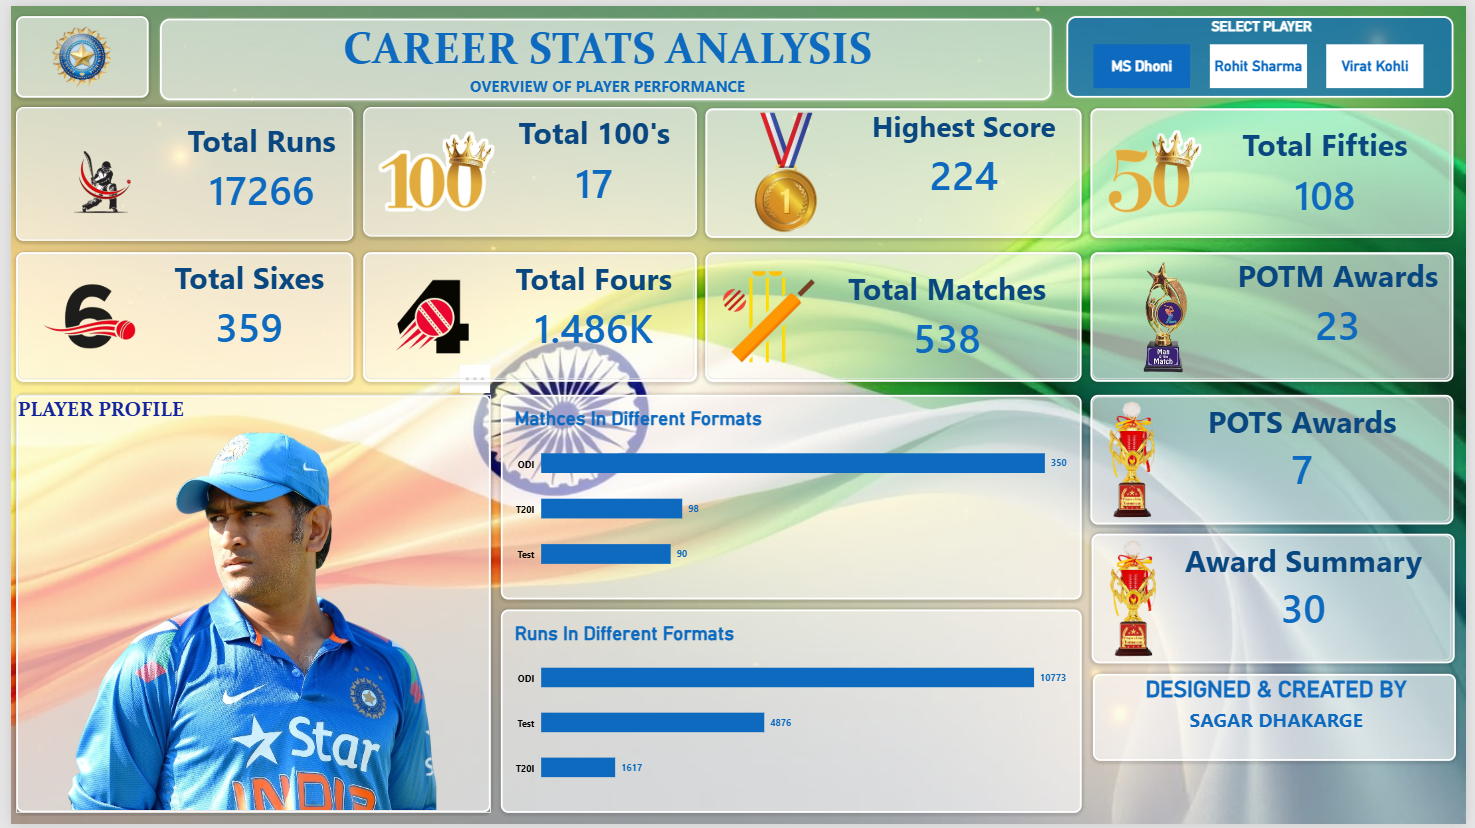

What the dashboard file says about the page in this screenshot:
{"tool":"powerbi","page":{"name":"Career Analysis","canvas":[1920,1080],"ordinal":0},"visuals":[{"type":"textbox","title":"CAREER STATS ANALYSIS","box":[196.2,15.9,1177,107.8],"z":0},{"type":"image","title":"PLAYER PROFILE","box":[6.7,513.3,626.7,551.7],"z":1000},{"type":"cardVisual","fields":{"Data":["Career_Summary.Total Fours"]},"box":[464.8,325.2,440.1,171.4],"z":2000},{"type":"cardVisual","fields":{"Data":["Career_Summary.Total Sixes"]},"box":[7.1,325.2,445.4,171.4],"z":3000},{"type":"cardVisual","fields":{"Data":["Career_Summary.Total 100's"]},"box":[464.8,132.5,440.1,171.4],"z":4000},{"type":"cardVisual","fields":{"Data":["Career_Summary.Total Fifties"]},"box":[1424.4,134.3,478.9,171.4],"z":5000},{"type":"cardVisual","fields":{"Data":["Career_Summary.Highest Score"]},"box":[917.2,134.3,496.6,171.4],"z":6000},{"type":"cardVisual","fields":{"Data":["Career_Summary.Total Runs"]},"box":[7.1,132.5,445.4,176.7],"z":7000},{"type":"advancedSlicerVisual","title":"SELECT PLAYER","fields":{"Values":["Career_Summary.Player_Name"]},"box":[1392.6,14.1,510.7,107.8],"z":8000},{"type":"barChart","title":"Runs In Different Formats","fields":{"Category":["Career_Summary.Format"],"Y":["Sum(Career_Summary.Runs)"]},"box":[646.7,796.7,766.7,268.3],"z":9000},{"type":"barChart","title":"Mathces In Different Formats","fields":{"Category":["Career_Summary.Format"],"Y":["Sum(Career_Summary.Matches)"]},"box":[646.8,512.5,767,270.4],"z":10000},{"type":"cardVisual","fields":{"Data":["Career_Summary.Total Matches"]},"box":[917.2,325.2,496.6,171.4],"z":11000},{"type":"cardVisual","fields":{"Data":["Career_Summary.Total POTM Awards"]},"box":[1424.4,512.5,478.9,171.4],"z":12000},{"type":"cardVisual","fields":{"Data":["Career_Summary.Total MOM Awards"]},"box":[1424.4,325.2,478.9,171.4],"z":13000},{"type":"image","box":[7.1,14.1,175,107.8],"z":14000},{"type":"cardVisual","fields":{"Data":["Career_Summary.Award Summary"]},"box":[1426.2,696.3,478.9,171.4],"z":15000},{"type":"textbox","title":"DESIGNED & CREATED BY ","box":[1428,881.9,478.9,114.9],"z":16000}]}

Visuals, with their boxes in screenshot pixels (x1, y1, x2, y2), scaled from the page's 1920x1080 canvas onto the 1475x828 screenshot:
"CAREER STATS ANALYSIS" textbox: <box>151,12,1055,95</box>
"PLAYER PROFILE" image: <box>5,394,487,816</box>
cardVisual - Career_Summary.Total Fours: <box>357,249,695,381</box>
cardVisual - Career_Summary.Total Sixes: <box>5,249,348,381</box>
cardVisual - Career_Summary.Total 100's: <box>357,102,695,233</box>
cardVisual - Career_Summary.Total Fifties: <box>1094,103,1462,234</box>
cardVisual - Career_Summary.Highest Score: <box>705,103,1086,234</box>
cardVisual - Career_Summary.Total Runs: <box>5,102,348,237</box>
"SELECT PLAYER" advancedSlicerVisual: <box>1070,11,1462,93</box>
"Runs In Different Formats" barChart: <box>497,611,1086,816</box>
"Mathces In Different Formats" barChart: <box>497,393,1086,600</box>
cardVisual - Career_Summary.Total Matches: <box>705,249,1086,381</box>
cardVisual - Career_Summary.Total POTM Awards: <box>1094,393,1462,524</box>
cardVisual - Career_Summary.Total MOM Awards: <box>1094,249,1462,381</box>
image: <box>5,11,140,93</box>
cardVisual - Career_Summary.Award Summary: <box>1096,534,1464,665</box>
"DESIGNED & CREATED BY " textbox: <box>1097,676,1465,764</box>
